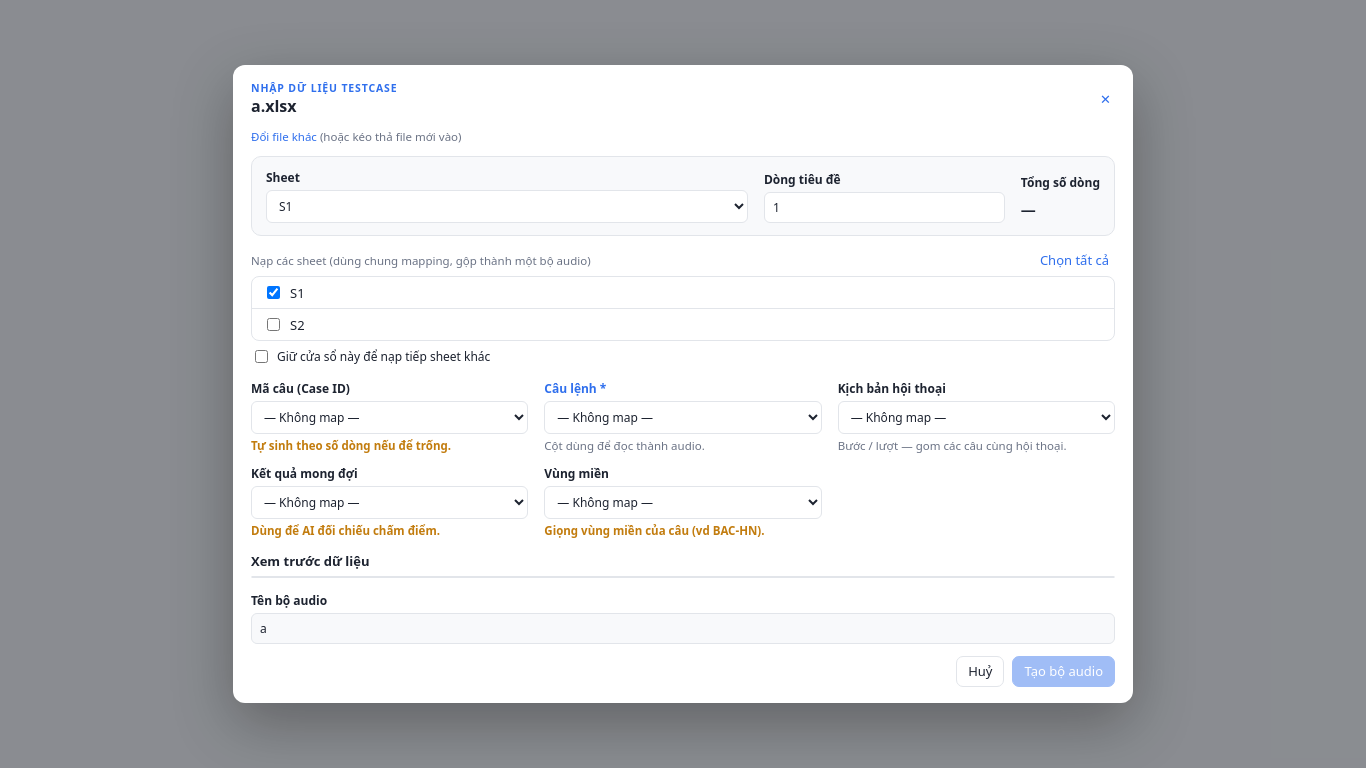
ImportDialog › ignores stale preview responses
Earlier steps of the test are not shown.
Select "S2" in the dropdown labelled "Sheet": {"x": 507, "y": 207} [266,190,748,223]
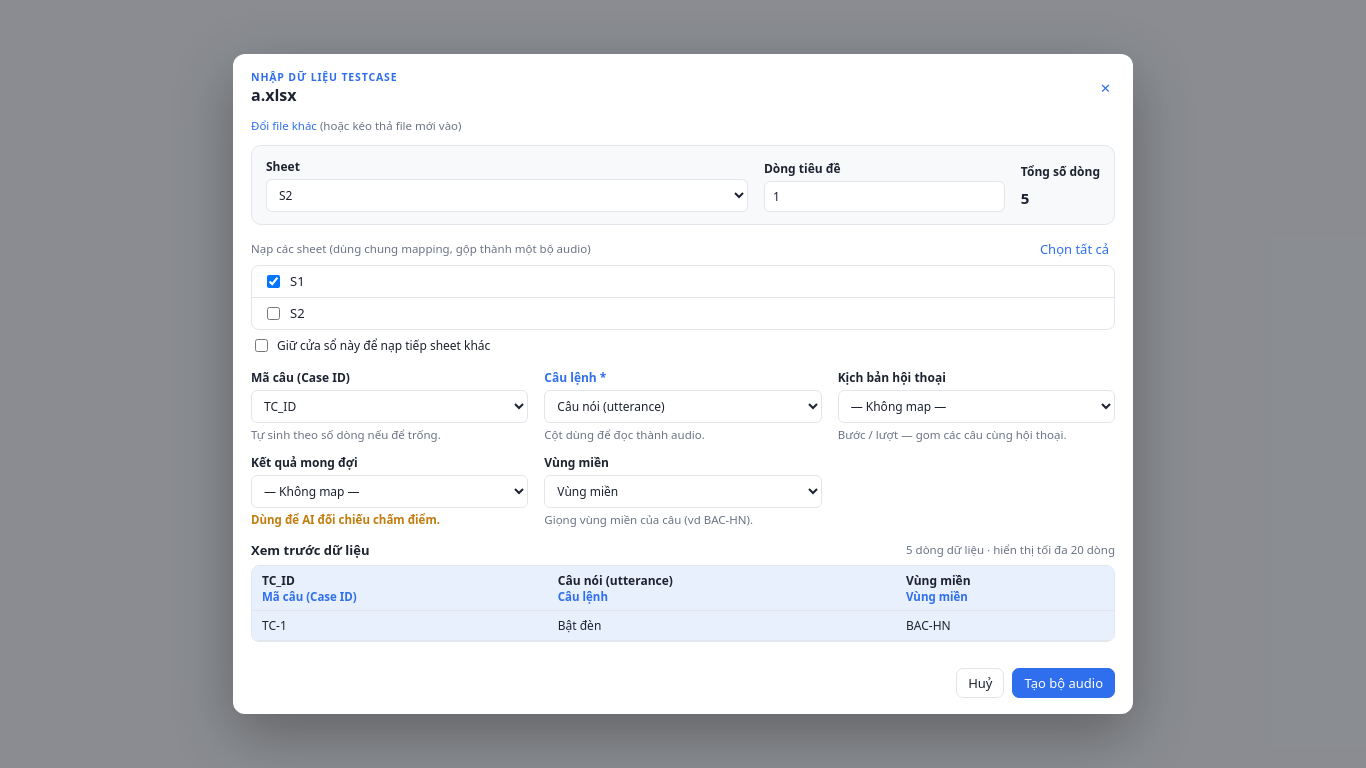
Expected: the text "5" is shown, [1021,188,1029,208]
